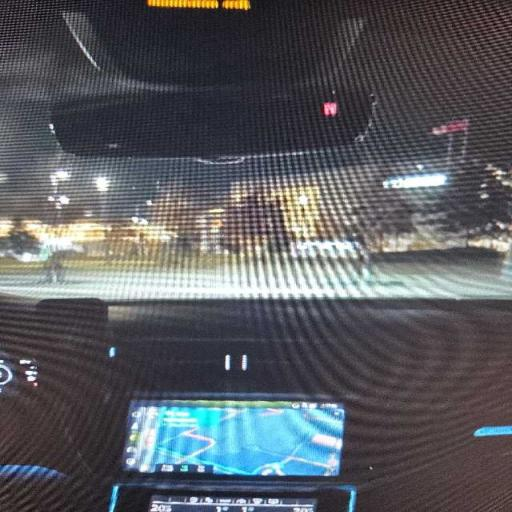car: (0, 0, 511, 511), (291, 239, 371, 280)
lane: (0, 261, 511, 300)
